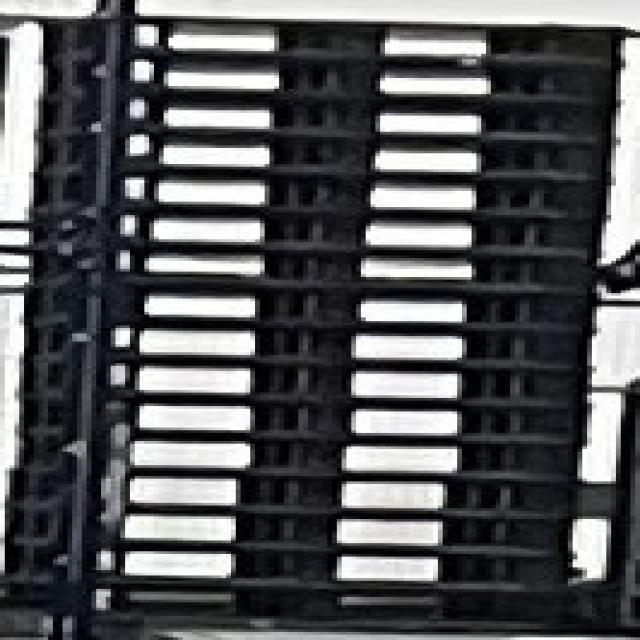igps: (0, 581, 592, 640), (17, 11, 640, 63), (13, 356, 600, 408), (19, 168, 619, 218), (26, 92, 625, 142), (12, 282, 611, 330), (12, 210, 615, 256), (0, 471, 592, 517), (0, 511, 586, 557), (30, 57, 628, 102), (2, 437, 597, 482), (0, 546, 592, 591), (22, 133, 624, 177), (18, 248, 614, 290), (13, 326, 608, 366), (11, 403, 600, 443)
